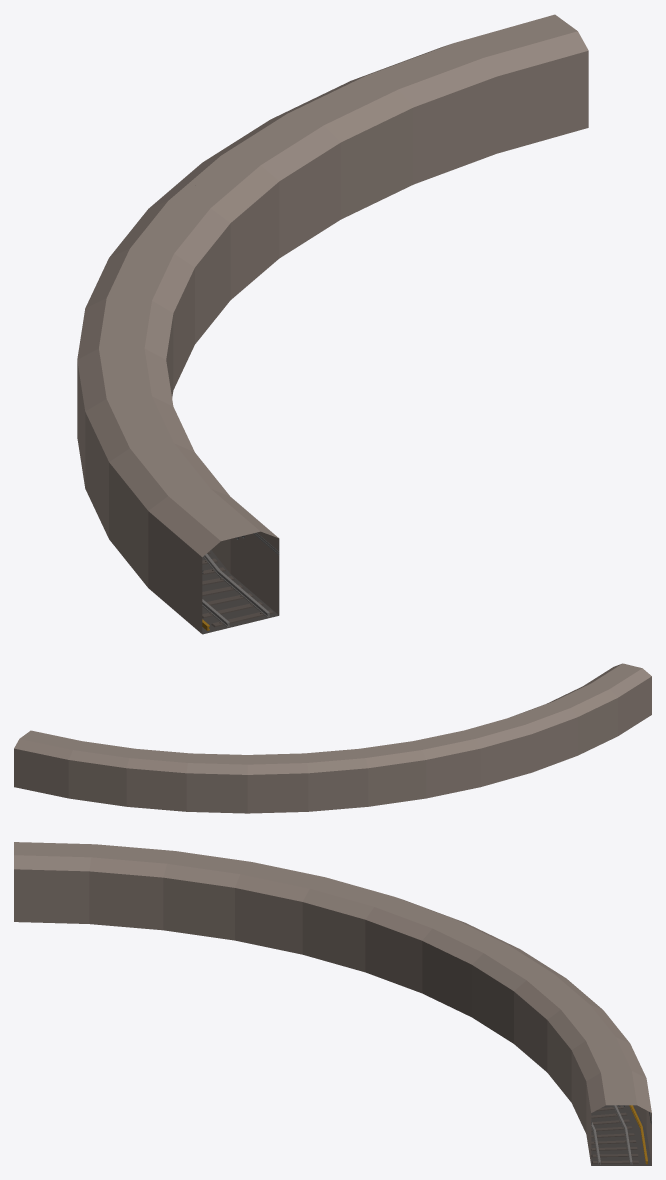
File: SM_Train_Track_Underground_Single_Tunnel_Corner_02.fbx
The picture shows the model from 3 angles, top to bottom: view 1: azimuth 30°, elevation 25°; view 2: azimuth 150°, elevation 25°; view 3: azimuth 270°, elevation 25°; orthographic projection. The views are drawn at different scales.
Visible parts, largest first — view 1: SM_Train_Track_Underground_Single_Tunnel_Corner_02; view 2: SM_Train_Track_Underground_Single_Tunnel_Corner_02; view 3: SM_Train_Track_Underground_Single_Tunnel_Corner_02.
Part boxes in pixels (<box>): SM_Train_Track_Underground_Single_Tunnel_Corner_02: <box>77,14,588,634</box>; SM_Train_Track_Underground_Single_Tunnel_Corner_02: <box>14,663,651,813</box>; SM_Train_Track_Underground_Single_Tunnel_Corner_02: <box>14,842,651,1165</box>.
Size of the model in its own units: 3675 by 385 by 3675.
